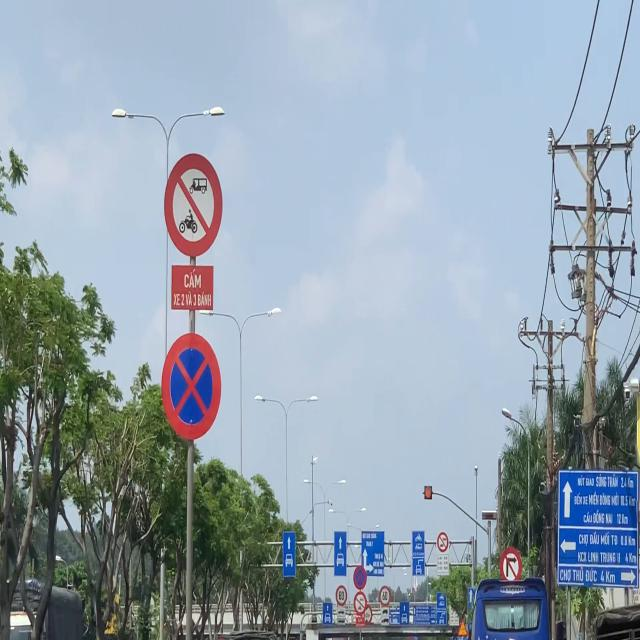Cam con lai: (162, 152, 222, 256), (436, 530, 449, 554), (353, 592, 367, 614)
Cam dung va do: (161, 332, 222, 440), (353, 565, 367, 590)
Cam re phai: (500, 546, 522, 588)
Nguy hiem: (458, 620, 468, 636)
Toc do toi da: (335, 584, 348, 606), (379, 585, 391, 607)
